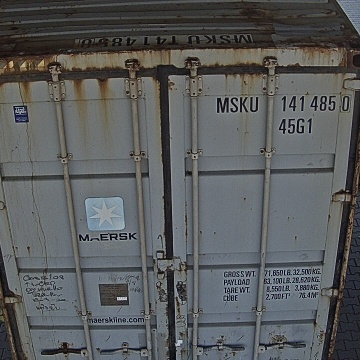serial_id: (217, 95, 351, 112)
